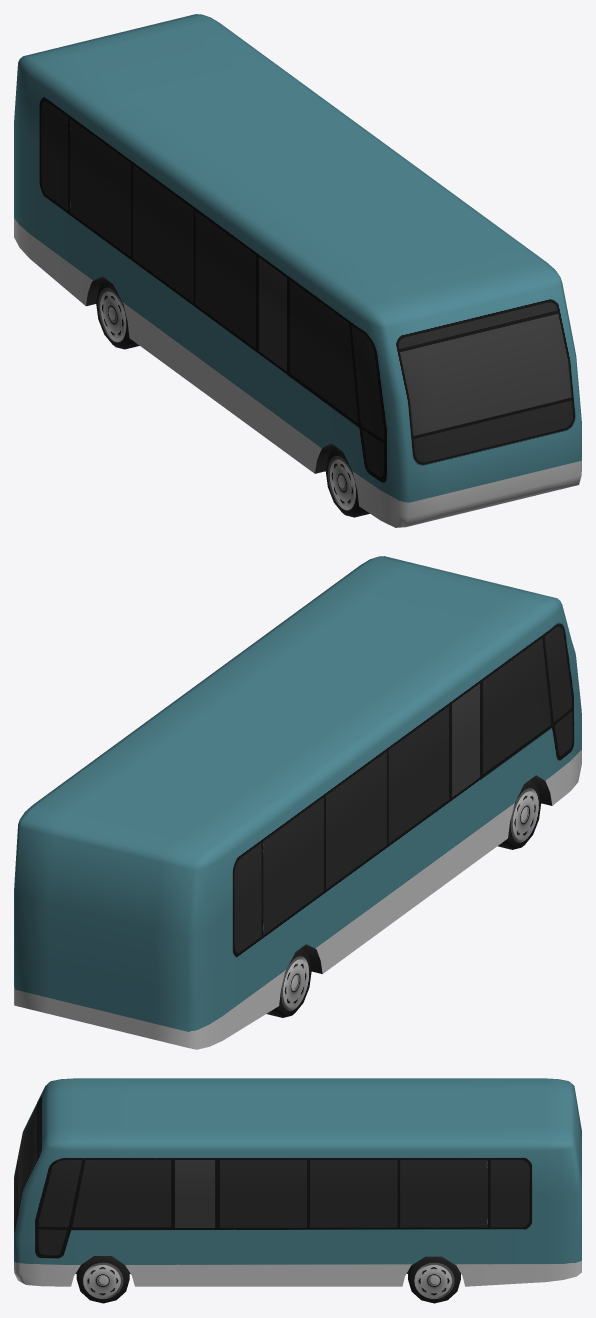
Rendered from Bus.fbx.
3 views of the same model, one above another, from view 1: azimuth 30°, elevation 25°; view 2: azimuth 150°, elevation 25°; view 3: azimuth 270°, elevation 25° (orthographic). The views are drawn at different scales.
Visible parts, largest first — view 1: polymsh6; view 2: polymsh6; view 3: polymsh6.
Boxes of the visible parts, <box> form: polymsh6: <box>14,14,581,527</box>; polymsh6: <box>14,556,581,1049</box>; polymsh6: <box>14,1078,581,1303</box>.
Bounding box in the file's own units: 48.62 × 54.59 × 172.
